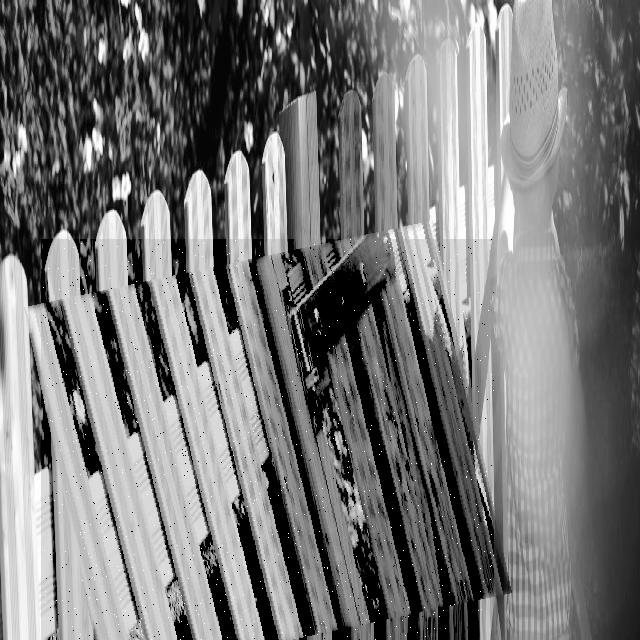fences: (41, 239, 494, 640)
